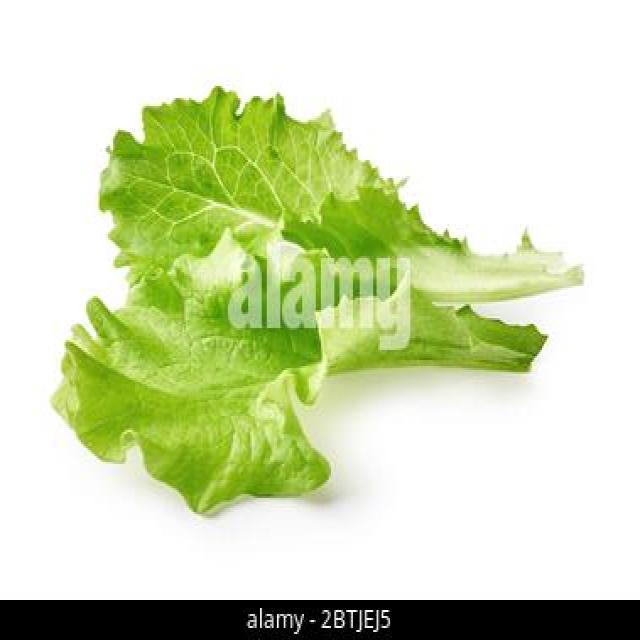lettuce: (49, 82, 584, 516)
